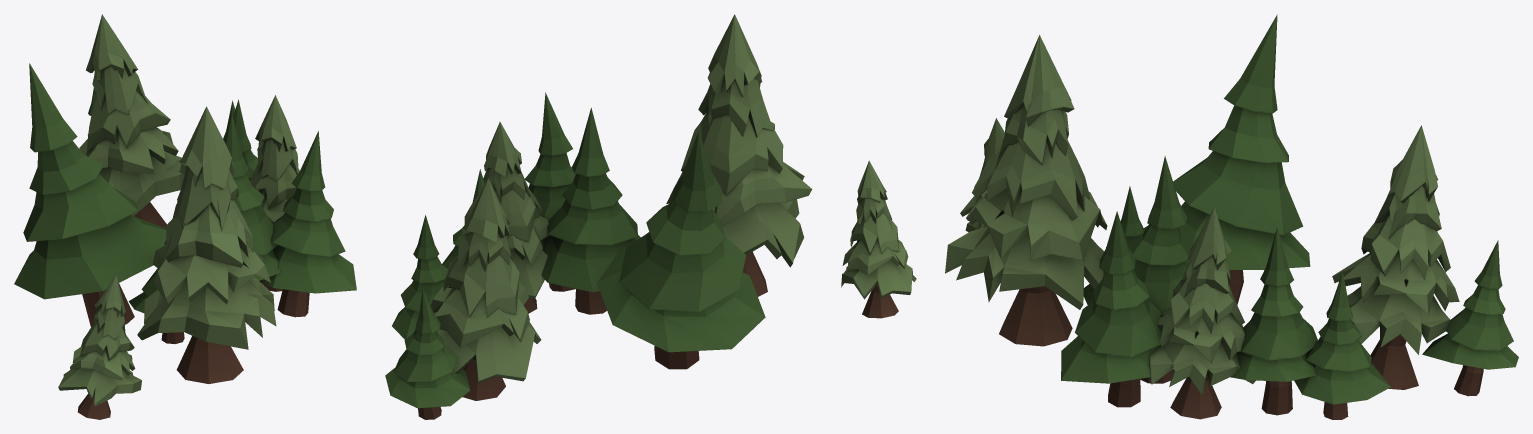
Rendered from forest.glb.
3 views of the same model, side by side, from view 1: azimuth 30°, elevation 25°; view 2: azimuth 150°, elevation 25°; view 3: azimuth 270°, elevation 25° (orthographic). The views are drawn at different scales.
Parts seen in each view (by area): view 1: Tree.005; view 2: Tree.005; view 3: Tree.005.
Boxes of the visible parts, bbox=[...] form: Tree.005: bbox=[14, 14, 356, 419]; Tree.005: bbox=[385, 14, 916, 419]; Tree.005: bbox=[945, 14, 1518, 419].
Size of the model in its own units: 1.13 by 0.8457 by 1.44.
Materials: 3 (3 with a texture image).
